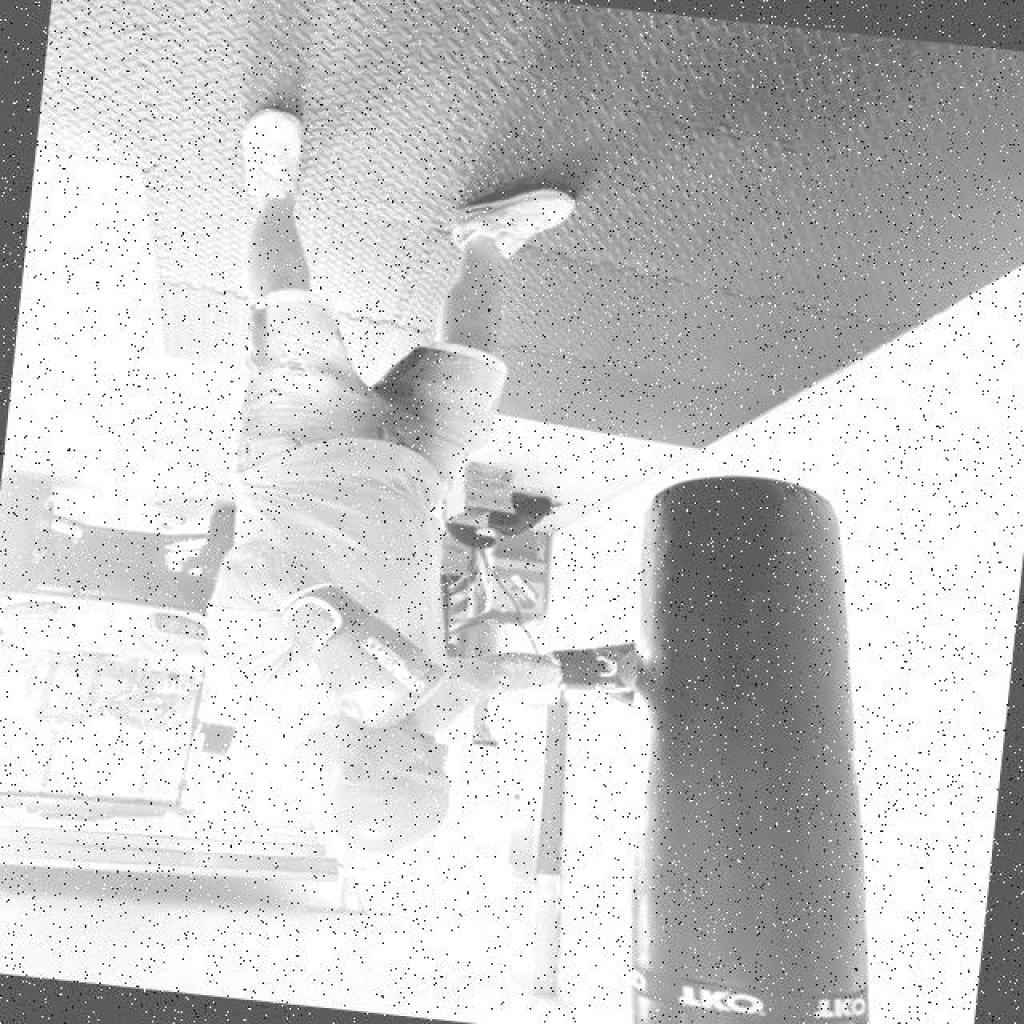hook: (178, 504, 694, 899)
